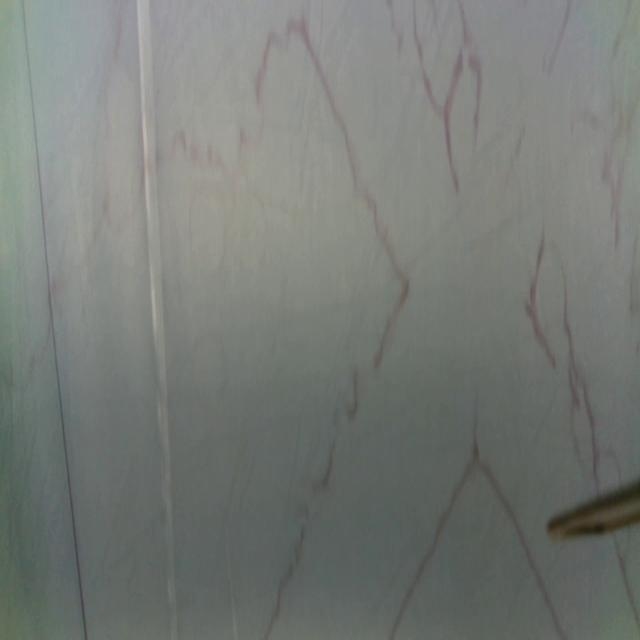crease: (23, 1, 88, 640), (137, 0, 177, 639)
